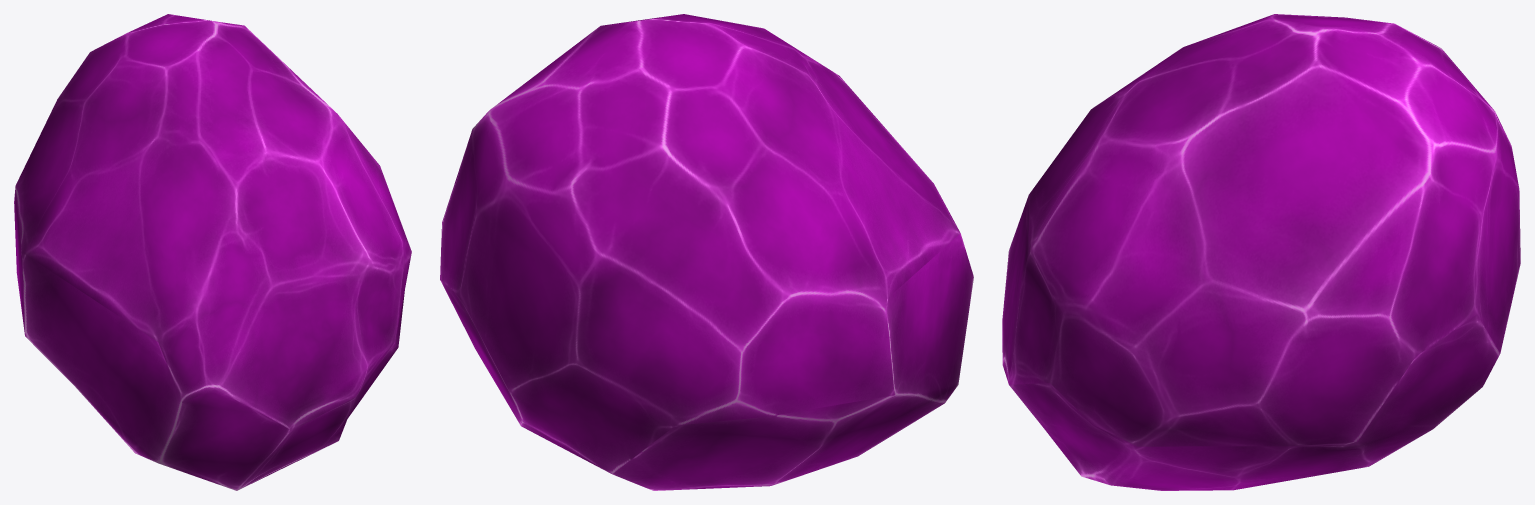
File: sten_01.fbx
3 renders of one model, left to right at view 1: azimuth 30°, elevation 25°; view 2: azimuth 150°, elevation 25°; view 3: azimuth 270°, elevation 25°, orthographic. The views are drawn at different scales.
Visible parts, largest first — view 1: Low_Sten01; view 2: Low_Sten01; view 3: Low_Sten01.
Boxes of the visible parts, <box> form: Low_Sten01: <box>14,14,411,490</box>; Low_Sten01: <box>440,14,973,490</box>; Low_Sten01: <box>1002,14,1520,490</box>.
Bounding box in the file's own units: 188 × 201 × 204.
